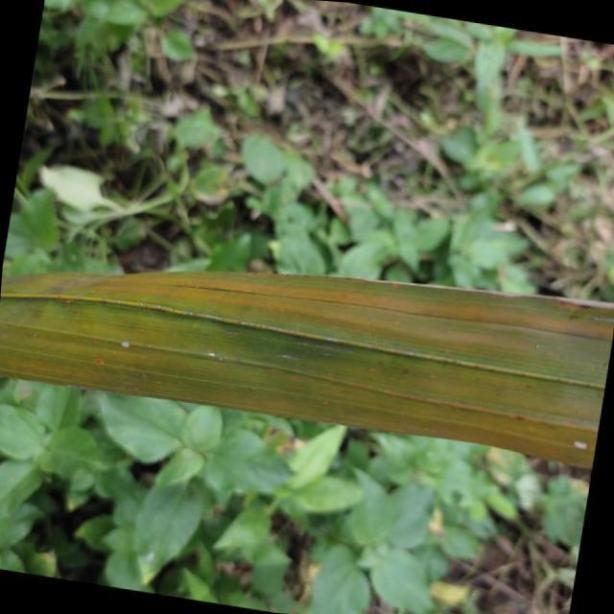Megnesium: (0, 265, 614, 472)
